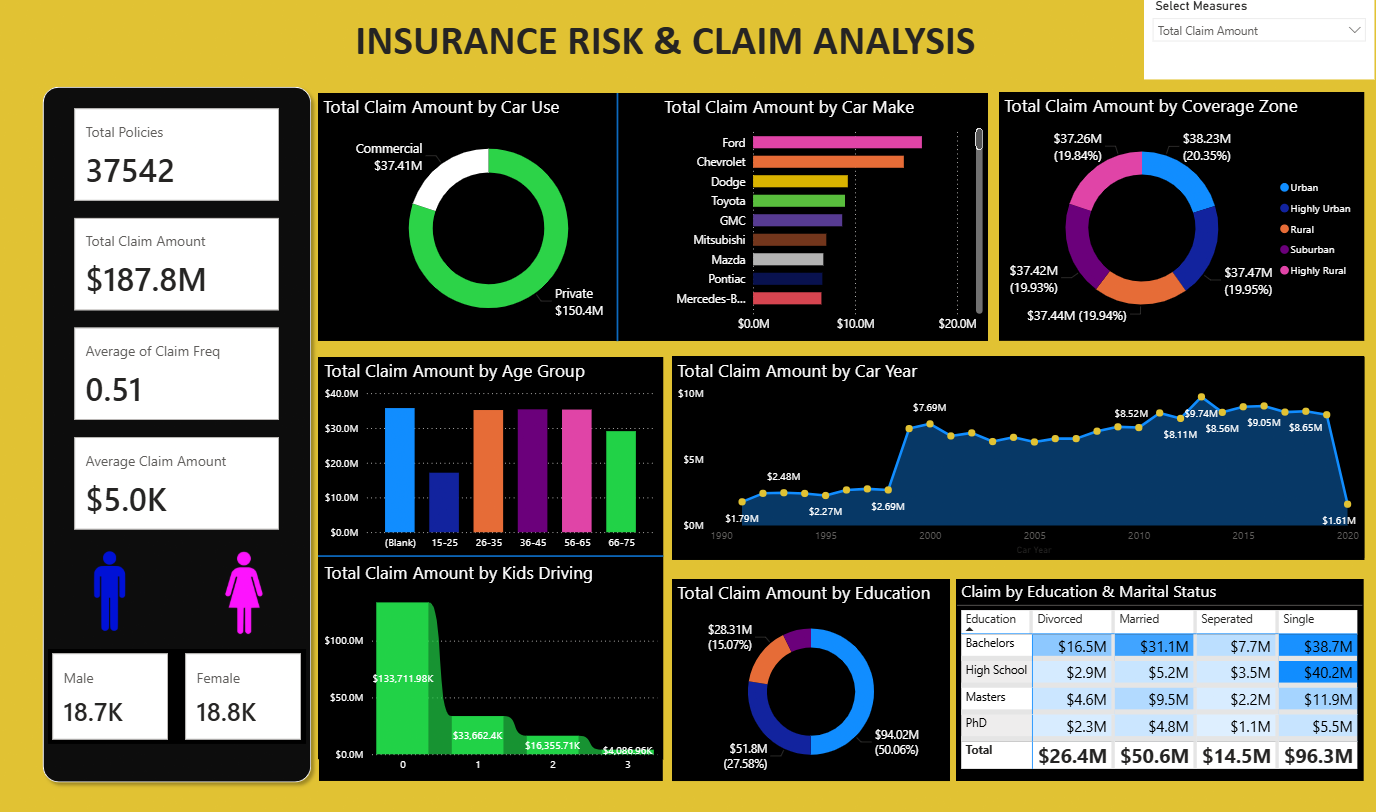

This screenshot's page, from the dashboard's own definition file:
{"tool":"powerbi","page":{"name":"Page 1","canvas":[1600,950],"ordinal":0},"visuals":[{"type":"textbox","box":[404.5,18.2,747,97],"z":0},{"type":"shape","box":[47.5,98.8,328.8,823.8],"z":1000},{"type":"cardVisual","fields":{"Data":["insurance_data_car.Total Policies","insurance_data_car.Total Claim Amount","Avg(insurance_data_car.Claim Freq)","insurance_data_car.Average Claim Amount"]},"box":[88.3,127.1,248,500.6],"z":2000},{"type":"cardVisual","fields":{"Data":["insurance_data_car.Male Count","insurance_data_car.Female Count"]},"box":[62.6,758.8,298.9,110.1],"z":3000},{"type":"image","box":[79.9,633.7,107.7,115.9],"z":4000},{"type":"image","box":[230.5,633.7,118.2,120.5],"z":5000},{"type":"slicer","fields":{"Values":["Select Measures.Select Measures"]},"box":[1332.8,0,266.6,99.2],"z":6000},{"type":"shape","box":[375,114.7,776.4,286.7],"z":7000},{"type":"donutChart","fields":{"Y":["insurance_data_car.Total Policies"],"Category":["insurance_data_car.Car Use"]},"box":[375,114.7,395.2,286.7],"z":8000},{"type":"clusteredBarChart","fields":{"Y":["insurance_data_car.Total Policies"],"Category":["insurance_data_car.Car Make"]},"box":[770.2,114.7,381.2,286.7],"z":9000},{"type":"donutChart","fields":{"Y":["insurance_data_car.Total Policies"],"Category":["insurance_data_car.Coverage Zone"]},"box":[1163.9,113.1,423.1,288.3],"z":10000},{"type":"shape","box":[375,420,399.8,466.5],"z":11000},{"type":"clusteredColumnChart","fields":{"Y":["insurance_data_car.Total Policies"],"Category":["insurance_data_car.Age Group"]},"box":[376.6,420,395.2,234],"z":12000},{"type":"ribbonChart","fields":{"Y":["insurance_data_car.Total Policies"],"Category":["insurance_data_car.Kids Driving"]},"box":[376.6,654,398.3,257.3],"z":13000},{"type":"shape","box":[785.5,419.4,801.7,234],"z":14000},{"type":"areaChart","fields":{"Y":["insurance_data_car.Total Policies"],"Category":["insurance_data_car.Car Year"]},"box":[785.5,420.5,801.7,235.2],"z":15000},{"type":"pieChart","fields":{"Y":["insurance_data_car.Total Policies"],"Category":["insurance_data_car.Education"]},"box":[785.5,677.7,322.1,234],"z":16000},{"type":"pivotTable","title":"Claim by Education & Marital Status","fields":{"Rows":["insurance_data_car.Education"],"Columns":["insurance_data_car.Marital Status"],"Values":["insurance_data_car.Total Claim Amount"]},"box":[1114,678,471.8,233.6],"z":17000},{"type":"shape","box":[572.5,115,300,287.5],"z":18000},{"type":"shape","box":[375,507.5,400,287.5],"z":19000}]}

Visuals, with their boxes in screenshot pixels (x1, y1, x2, y2), scaled from the page's 1600x950 canvas onto the 1376x812 screenshot:
textbox: <box>348,16,990,98</box>
shape: <box>41,84,324,789</box>
cardVisual - insurance_data_car.Total Policies x insurance_data_car.Total Claim Amount: <box>76,109,289,537</box>
cardVisual - insurance_data_car.Male Count x insurance_data_car.Female Count: <box>54,649,311,743</box>
image: <box>69,542,161,641</box>
image: <box>198,542,300,645</box>
slicer - Select Measures.Select Measures: <box>1146,0,1375,85</box>
shape: <box>322,98,990,343</box>
donutChart - insurance_data_car.Total Policies x insurance_data_car.Car Use: <box>322,98,662,343</box>
clusteredBarChart - insurance_data_car.Total Policies x insurance_data_car.Car Make: <box>662,98,990,343</box>
donutChart - insurance_data_car.Total Policies x insurance_data_car.Coverage Zone: <box>1001,97,1365,343</box>
shape: <box>322,359,666,758</box>
clusteredColumnChart - insurance_data_car.Total Policies x insurance_data_car.Age Group: <box>324,359,664,559</box>
ribbonChart - insurance_data_car.Total Policies x insurance_data_car.Kids Driving: <box>324,559,666,779</box>
shape: <box>676,358,1365,558</box>
areaChart - insurance_data_car.Total Policies x insurance_data_car.Car Year: <box>676,359,1365,560</box>
pieChart - insurance_data_car.Total Policies x insurance_data_car.Education: <box>676,579,953,779</box>
"Claim by Education & Marital Status" pivotTable: <box>958,580,1364,779</box>
shape: <box>492,98,750,344</box>
shape: <box>322,434,666,680</box>
